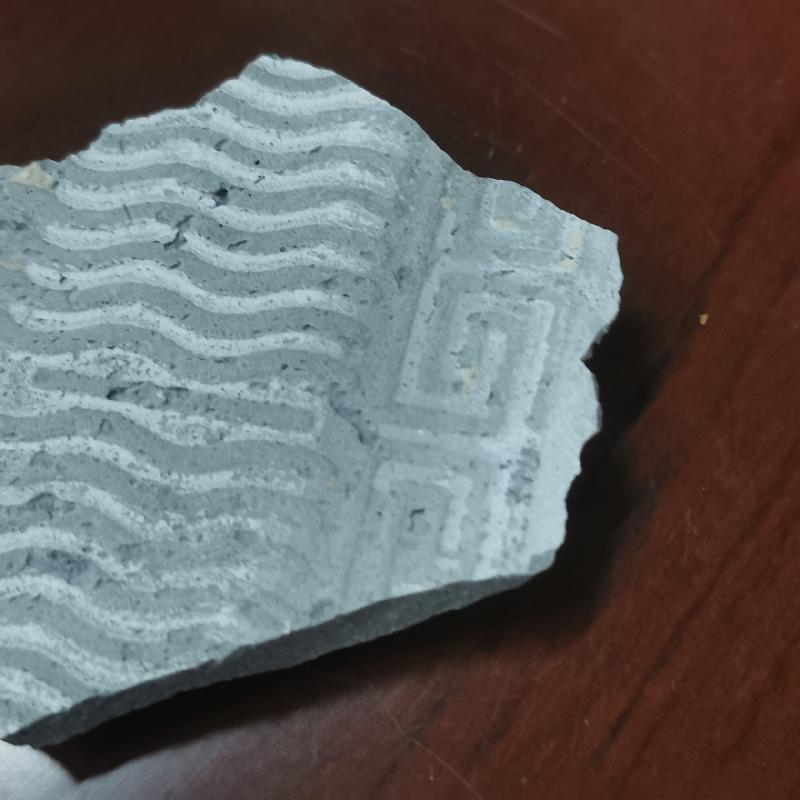tile: (1, 52, 626, 754)
